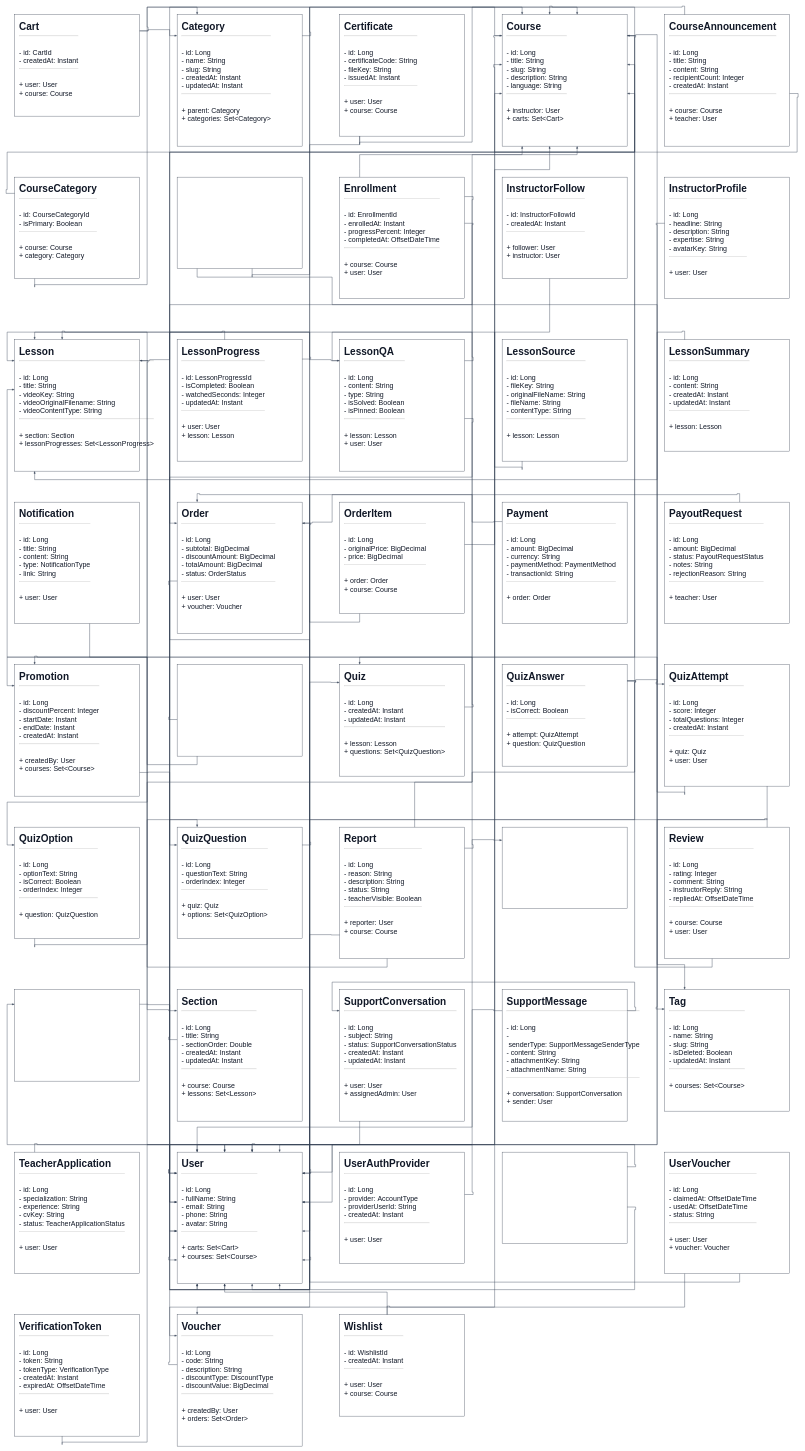
This 805x1451 diagram has some shape labels left out. Each missing label, with the box of its shape:
CourseTag - id: CourseTagId + course: Course + tag: Tag: (177, 177, 302, 269)
PromotionCourse - id: PromotionCourseId + promotion: Promotion + course: Course: (177, 664, 302, 756)
ReportCategory - id: Long - code: String - name: String: (502, 827, 627, 909)
Role - id: Long - roleName: RoleName + users: Set<User>: (14, 989, 140, 1081)
UserRole - id: UserRoleId + user: User + role: Role: (502, 1152, 627, 1244)
